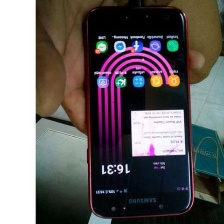phone: (76, 0, 197, 222)
